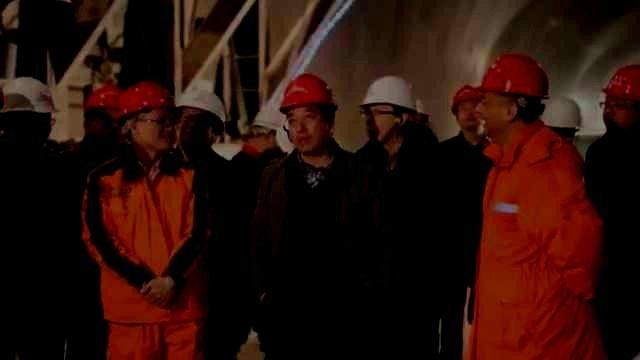helmet: (470, 49, 551, 138), (278, 72, 339, 153), (1, 76, 62, 148), (113, 81, 173, 151), (357, 73, 418, 141), (174, 87, 227, 154), (599, 62, 640, 137), (81, 84, 122, 138), (541, 95, 584, 143), (450, 84, 487, 129), (249, 110, 278, 137)
